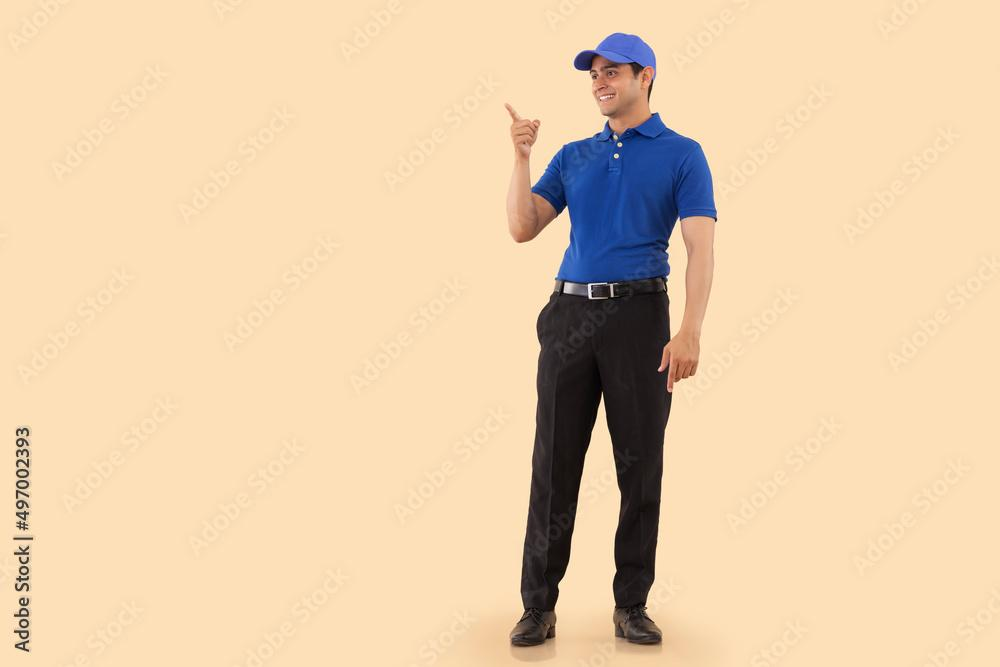Human: (501, 37, 715, 667)
